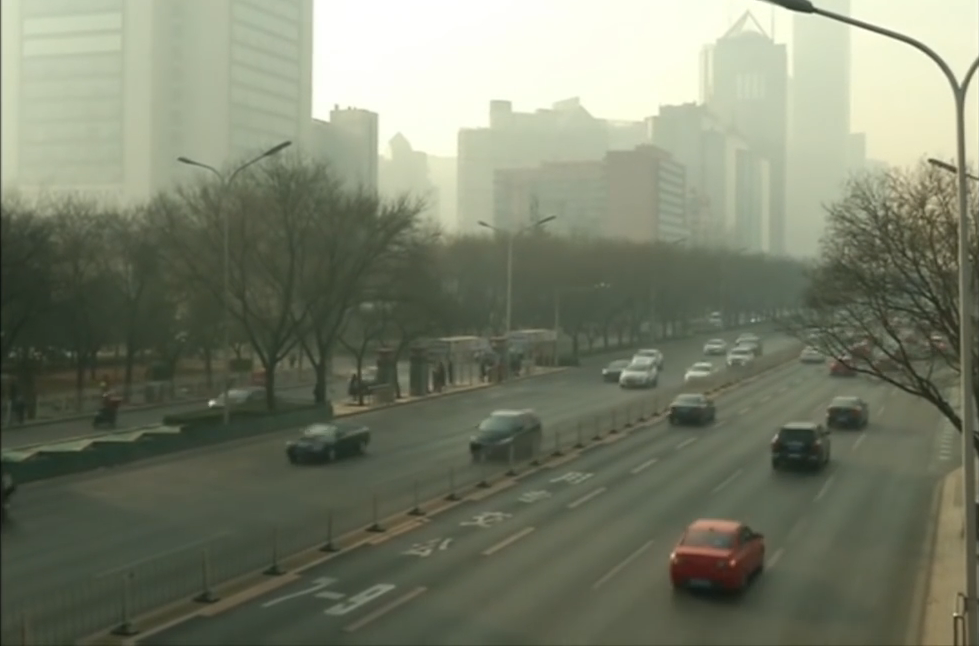car: (669, 517, 765, 599), (466, 407, 543, 462), (283, 418, 370, 464), (768, 420, 830, 472), (205, 383, 281, 417), (666, 392, 714, 424), (827, 395, 871, 429), (618, 357, 659, 390), (683, 361, 719, 386), (631, 346, 664, 372), (601, 358, 633, 383), (734, 332, 763, 358), (827, 353, 857, 377), (725, 345, 755, 367), (799, 344, 826, 363), (703, 338, 728, 357)
